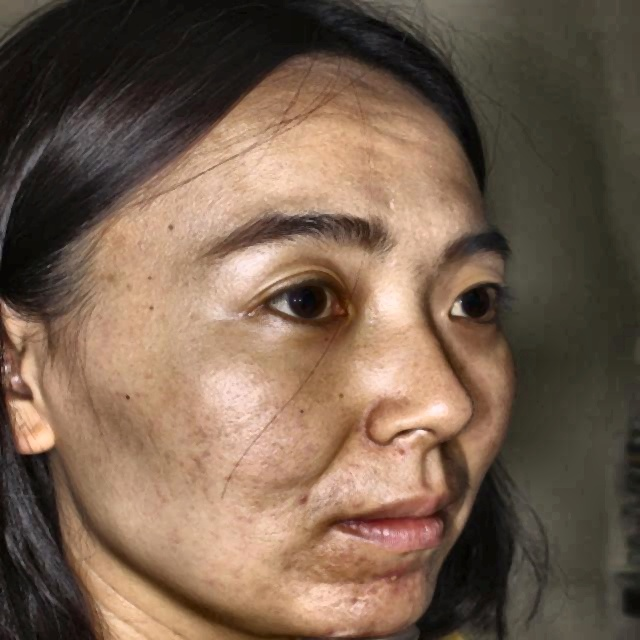comedone: (377, 562, 409, 597)
